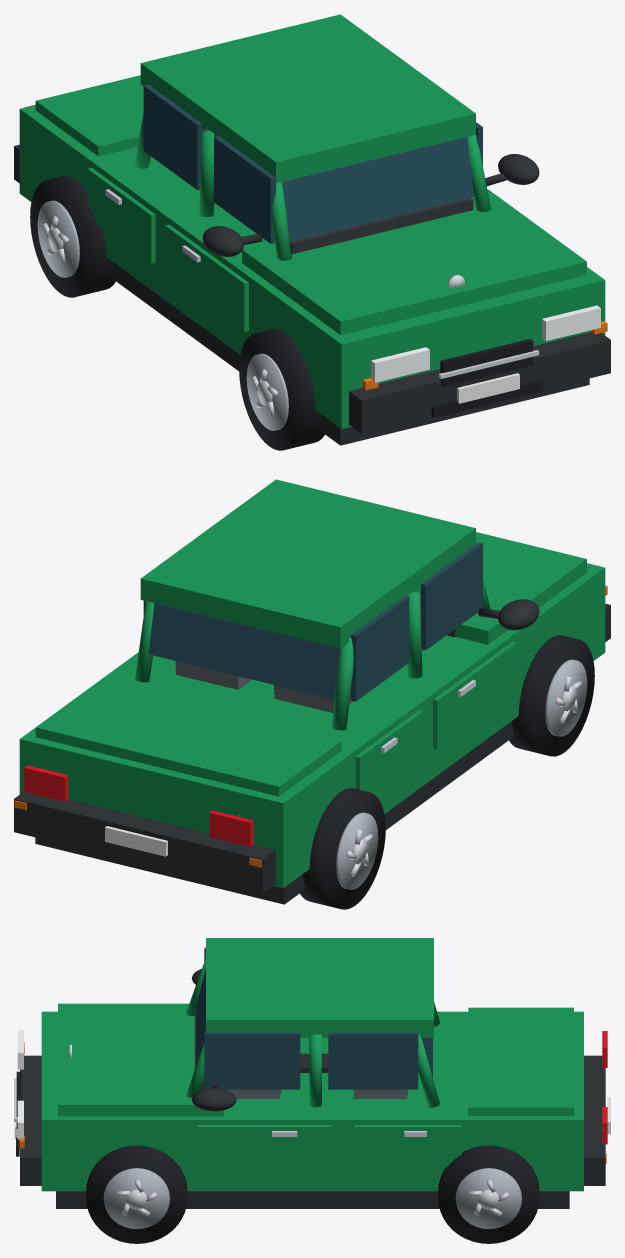
Rendered from auto3.glb.
3 views of the same model, one above another, from view 1: azimuth 30°, elevation 25°; view 2: azimuth 150°, elevation 25°; view 3: azimuth 270°, elevation 25° (orthographic). The views are drawn at different scales.
Visible parts, largest first — view 1: Techo verde, Carroceria verde, Capo, Parabrisas delantero, Defensa delantera, Cajuela, Neumatico delantero Izquierdo, Neumatico trasero Izquierdo, Chasis inferior, Puerta delantera Izquierdo, Ventana delantera Izquierdo, Ventana trasera Izquierdo (+15 smaller); view 2: Carroceria verde, Techo verde, Cajuela, Defensa trasera, Cristal trasero, Capo, Neumatico trasero Izquierdo, Neumatico delantero Izquierdo, Chasis inferior, Ventana delantera Izquierdo, Puerta delantera Izquierdo, Ventana trasera Izquierdo (+12 smaller); view 3: Carroceria verde, Techo verde, Capo, Cajuela, Chasis inferior, Puerta delantera Derecho, Ventana delantera Derecho, Ventana trasera Derecho, Neumatico delantero Derecho, Neumatico trasero Derecho, Puerta trasera Derecho, Defensa trasera (+10 smaller).
Part boxes in pixels (box(x1,y1,x2,y2)): Techo verde: box(140, 14, 475, 183); Carroceria verde: box(19, 105, 605, 429); Capo: box(242, 189, 586, 334); Parabrisas delantero: box(282, 137, 474, 241); Defensa delantera: box(349, 332, 610, 433); Cajuela: box(35, 75, 143, 156); Neumatico delantero Izquierdo: box(239, 329, 324, 450); Neumatico trasero Izquierdo: box(30, 176, 115, 297); Chasis inferior: box(110, 262, 589, 445); Puerta delantera Izquierdo: box(165, 224, 248, 331); Ventana delantera Izquierdo: box(214, 136, 275, 243); Ventana trasera Izquierdo: box(143, 84, 202, 189); Carroceria verde: box(19, 563, 605, 887); Techo verde: box(140, 479, 475, 648); Cajuela: box(35, 681, 341, 796); Defensa trasera: box(14, 791, 275, 892); Cristal trasero: box(148, 603, 340, 699); Capo: box(455, 532, 586, 644); Neumatico trasero Izquierdo: box(300, 788, 385, 909); Neumatico delantero Izquierdo: box(509, 635, 594, 756); Chasis inferior: box(35, 721, 514, 904); Ventana delantera Izquierdo: box(421, 542, 482, 649); Puerta delantera Izquierdo: box(433, 642, 516, 749); Ventana trasera Izquierdo: box(350, 596, 409, 701); Carroceria verde: box(41, 1011, 583, 1191); Techo verde: box(206, 938, 433, 1037); Capo: box(58, 1003, 223, 1116); Cajuela: box(468, 1007, 573, 1115); Chasis inferior: box(56, 1191, 569, 1208); Puerta delantera Derecho: box(198, 1125, 331, 1167); Ventana delantera Derecho: box(204, 1032, 300, 1089); Ventana trasera Derecho: box(328, 1032, 418, 1089); Neumatico delantero Derecho: box(86, 1145, 187, 1243); Neumatico trasero Derecho: box(438, 1145, 539, 1243); Puerta trasera Derecho: box(355, 1125, 461, 1167); Defensa trasera: box(584, 1055, 605, 1185).
Size of the model in its own units: 2.26 by 1.6 by 4.24.
